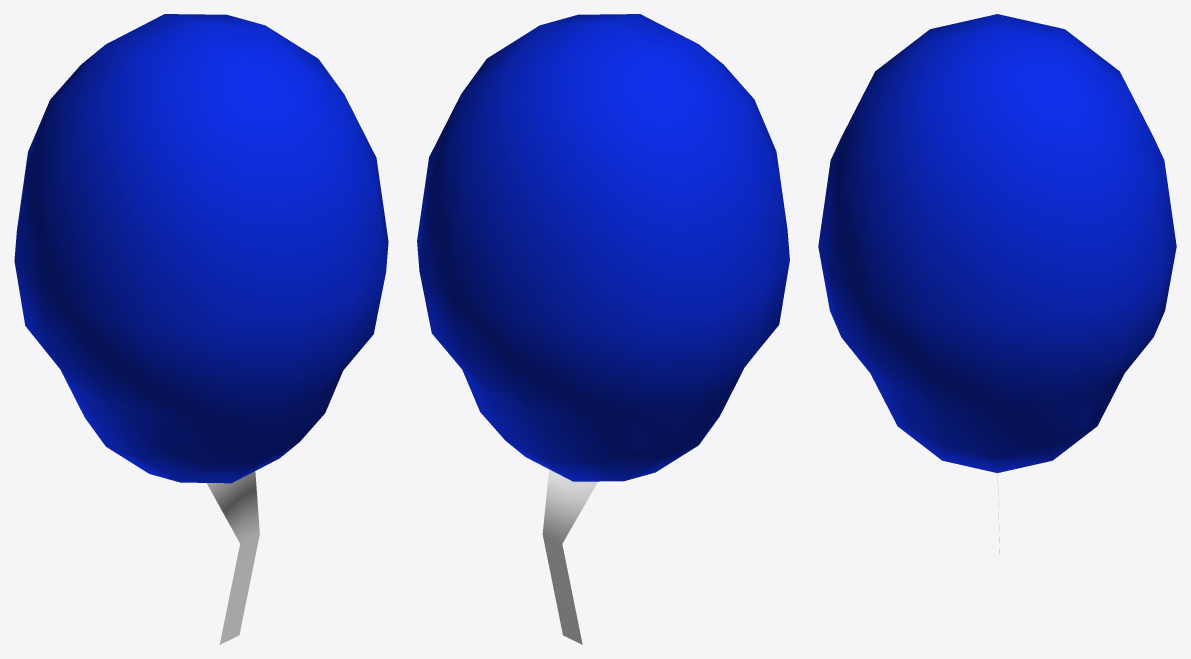
File: Balloon.fbx
3 views of the same model, side by side, from view 1: azimuth 30°, elevation 25°; view 2: azimuth 150°, elevation 25°; view 3: azimuth 270°, elevation 25° (orthographic). The views are drawn at different scales.
Parts seen in each view (by area): view 1: Cube; view 2: Cube; view 3: Cube.
Part boxes in pixels (left/top/right/bottom): Cube: left=14, top=14, right=388, bottom=644; Cube: left=417, top=14, right=789, bottom=644; Cube: left=818, top=14, right=1176, bottom=553.
Bounding box in the file's own units: 161 × 299 × 161.
